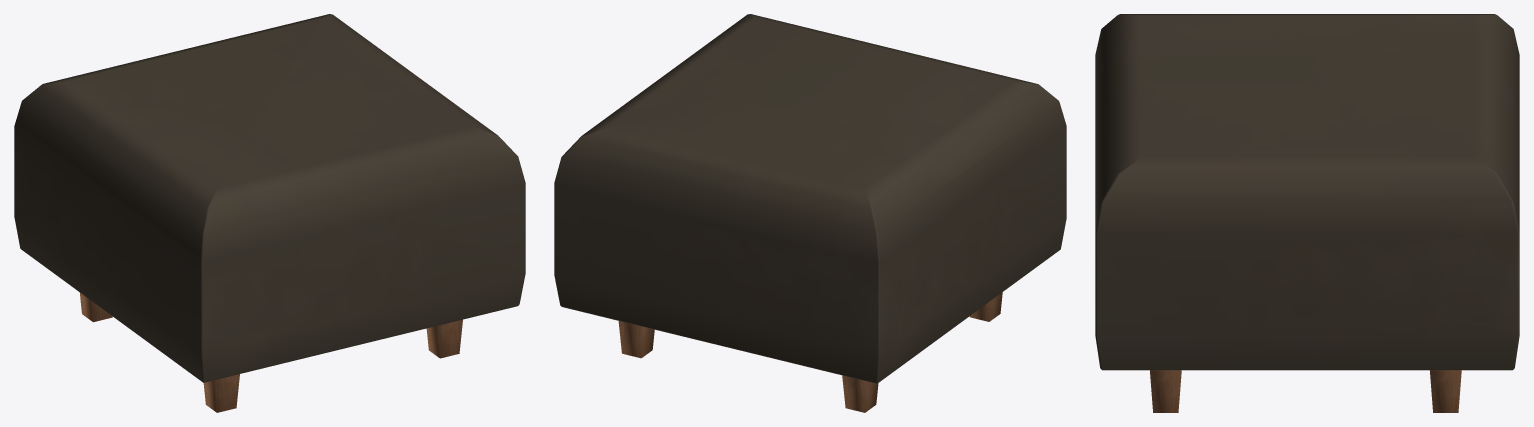
Rendered from pouf_2.fbx.
3 renders of one model, left to right at view 1: azimuth 30°, elevation 25°; view 2: azimuth 150°, elevation 25°; view 3: azimuth 270°, elevation 25°, orthographic. The views are drawn at different scales.
Visible parts, largest first — view 1: polySurface1094; view 2: polySurface1094; view 3: polySurface1094.
Boxes of the visible parts, <box> form: polySurface1094: <box>14,14,525,412</box>; polySurface1094: <box>554,14,1066,412</box>; polySurface1094: <box>1095,14,1519,412</box>.
Bounding box in the file's own units: 66 × 44.55 × 66.
1 material, 1 textured.
